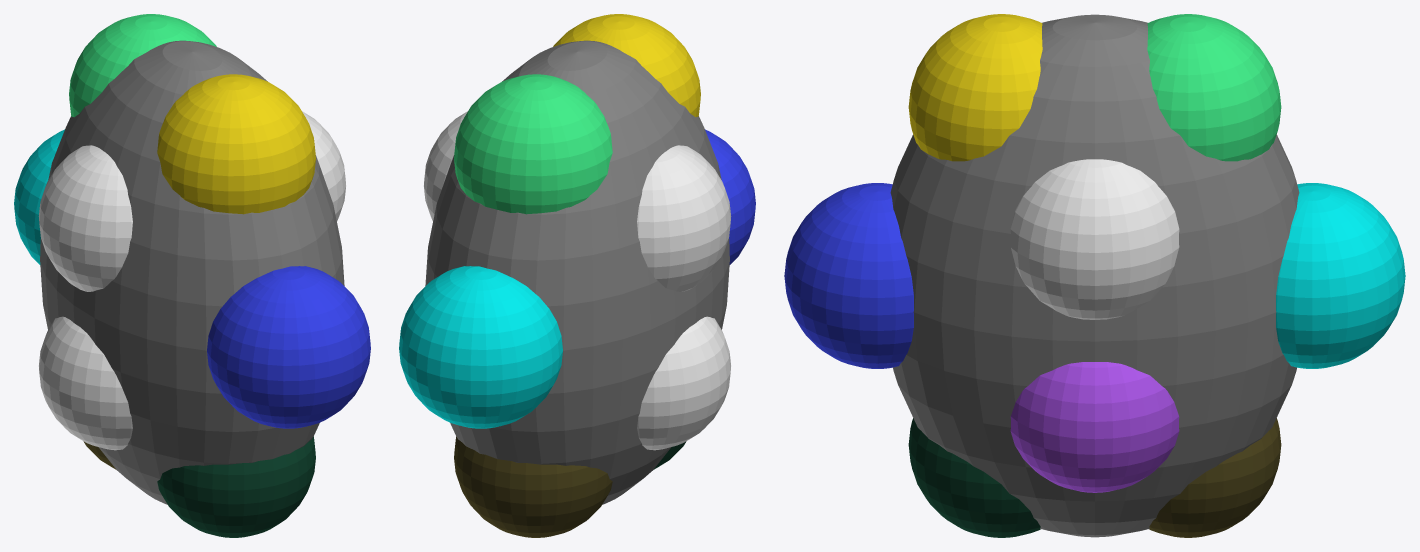
The model's file is Strange.dae.
The picture shows the model from 3 angles, left to right: view 1: azimuth 30°, elevation 25°; view 2: azimuth 150°, elevation 25°; view 3: azimuth 270°, elevation 25°; orthographic projection. The views are drawn at different scales.
Visible parts, largest first — view 1: Sphere, Sphere.010, Sphere.002, Sphere.008, Sphere.004, Sphere.007, Sphere.001, Sphere.009, Sphere.003; view 2: Sphere, Sphere.009, Sphere.001, Sphere.008, Sphere.005, Sphere.007, Sphere.002, Sphere.010, Sphere.003; view 3: Sphere, Sphere.003, Sphere.010, Sphere.009, Sphere.006, Sphere.002, Sphere.001, Sphere.005, Sphere.004.
Part boxes in pixels (x1,y1,x2,y2): Sphere: [40, 40, 344, 504]; Sphere.010: [207, 266, 370, 428]; Sphere.002: [157, 74, 315, 214]; Sphere.008: [38, 145, 132, 291]; Sphere.004: [157, 436, 315, 537]; Sphere.007: [39, 316, 132, 450]; Sphere.001: [69, 14, 216, 117]; Sphere.009: [14, 129, 64, 264]; Sphere.003: [302, 111, 345, 220]; Sphere: [425, 40, 729, 504]; Sphere.009: [399, 266, 562, 428]; Sphere.001: [454, 74, 612, 214]; Sphere.008: [637, 145, 731, 291]; Sphere.005: [454, 436, 612, 537]; Sphere.007: [637, 316, 730, 450]; Sphere.002: [553, 14, 700, 117]; Sphere.010: [705, 129, 755, 264]; Sphere.003: [424, 111, 467, 220]; Sphere: [890, 14, 1299, 537]; Sphere.003: [1010, 159, 1179, 319]; Sphere.010: [784, 183, 913, 368]; Sphere.009: [1276, 183, 1405, 368]; Sphere.006: [1010, 362, 1179, 492]; Sphere.002: [908, 14, 1042, 161]; Sphere.001: [1147, 14, 1281, 161]; Sphere.005: [1149, 418, 1281, 537]; Sphere.004: [908, 418, 1040, 537].
Bounding box in the file's own units: 12 × 20 × 18.
